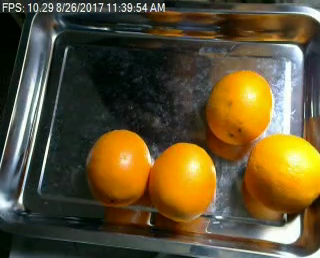Orange: (242, 135, 319, 214), (147, 141, 216, 221), (204, 70, 273, 146), (86, 129, 150, 206)
